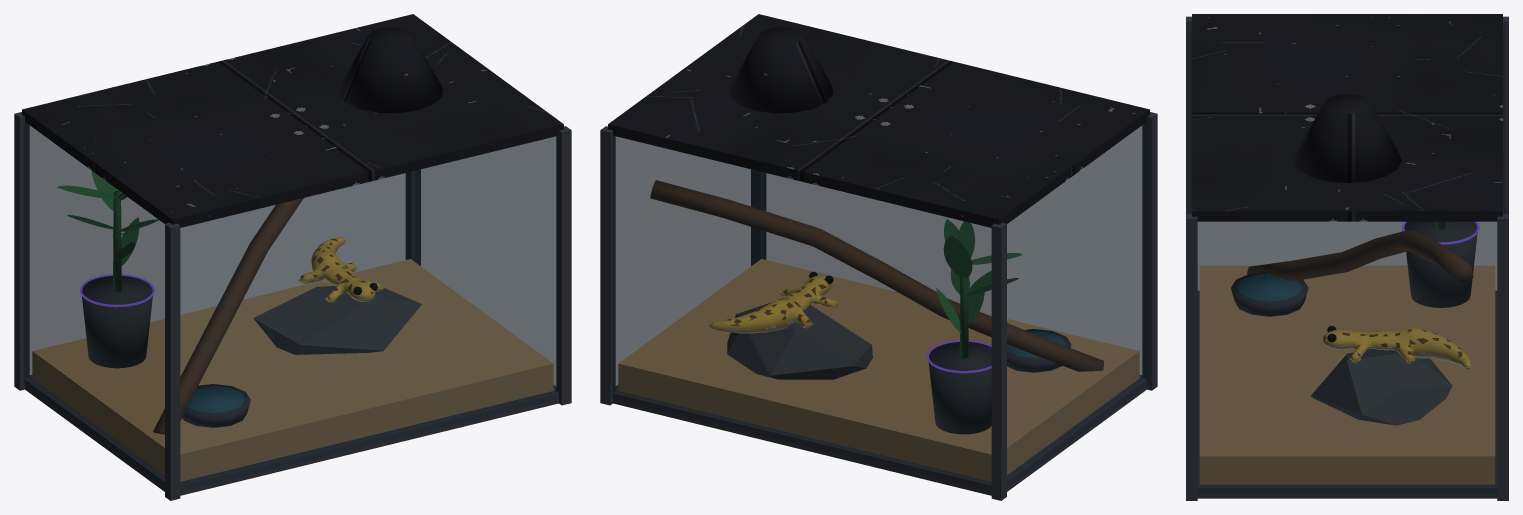
Rendered from Pet_Gecko_Terrarium.gltf.
The picture shows the model from 3 angles, left to right: view 1: azimuth 30°, elevation 25°; view 2: azimuth 150°, elevation 25°; view 3: azimuth 270°, elevation 25°; orthographic projection. The views are drawn at different scales.
Visible parts, largest first — view 1: Pet_Gecko_Terrarium, Gecko; view 2: Pet_Gecko_Terrarium, Gecko; view 3: Pet_Gecko_Terrarium, Gecko.
Part boxes in pixels (x1,y1,x2,y2): Pet_Gecko_Terrarium: (14,14,571,500); Gecko: (298,237,383,302); Pet_Gecko_Terrarium: (600,14,1157,500); Gecko: (709,271,839,333); Pet_Gecko_Terrarium: (1186,14,1508,500); Gecko: (1323,326,1471,369).
Bounding box in the file's own units: 0.615 × 0.49 × 0.415.
17 materials, 1 textured.
